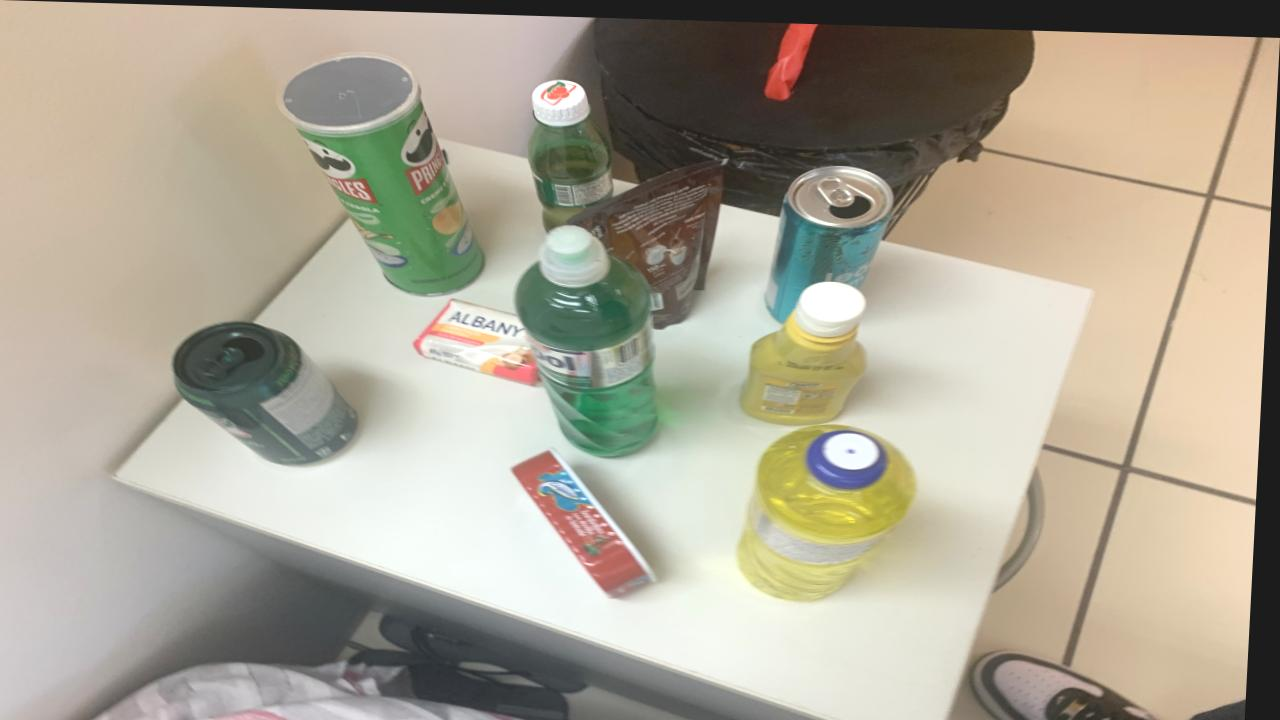Coffee-Pantry_Items: (572, 157, 727, 323)
Detergent-Cleanup_Items: (518, 221, 661, 452), (743, 419, 922, 595)
Guarana-Drinks: (529, 77, 616, 227)
Guarana_Can-Drinks: (178, 321, 363, 463)
Mustard-Pantry_Items: (744, 276, 871, 420)
Pringles-Snacks: (281, 50, 488, 293)
Soap-Cleanup_Items: (416, 296, 543, 382)
Tea-Drinks: (769, 160, 896, 317)
Tuna_Can-Pantry_Items: (516, 446, 662, 593)
